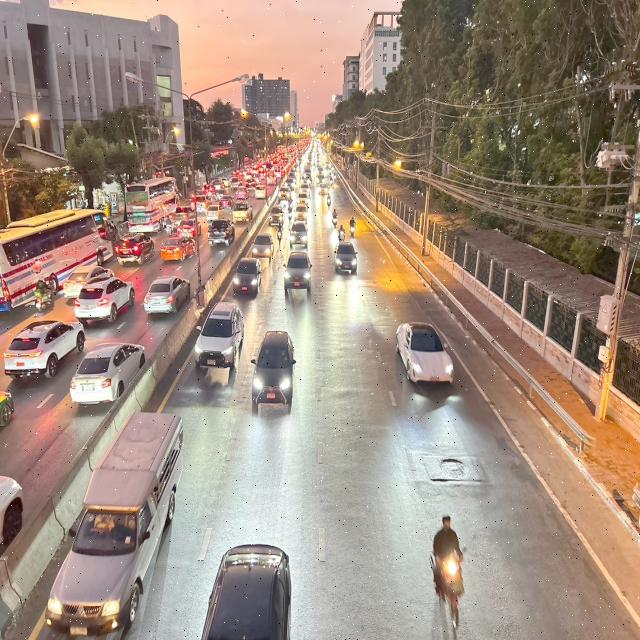bike: (424, 508, 476, 632)
truck: (40, 403, 188, 640)
